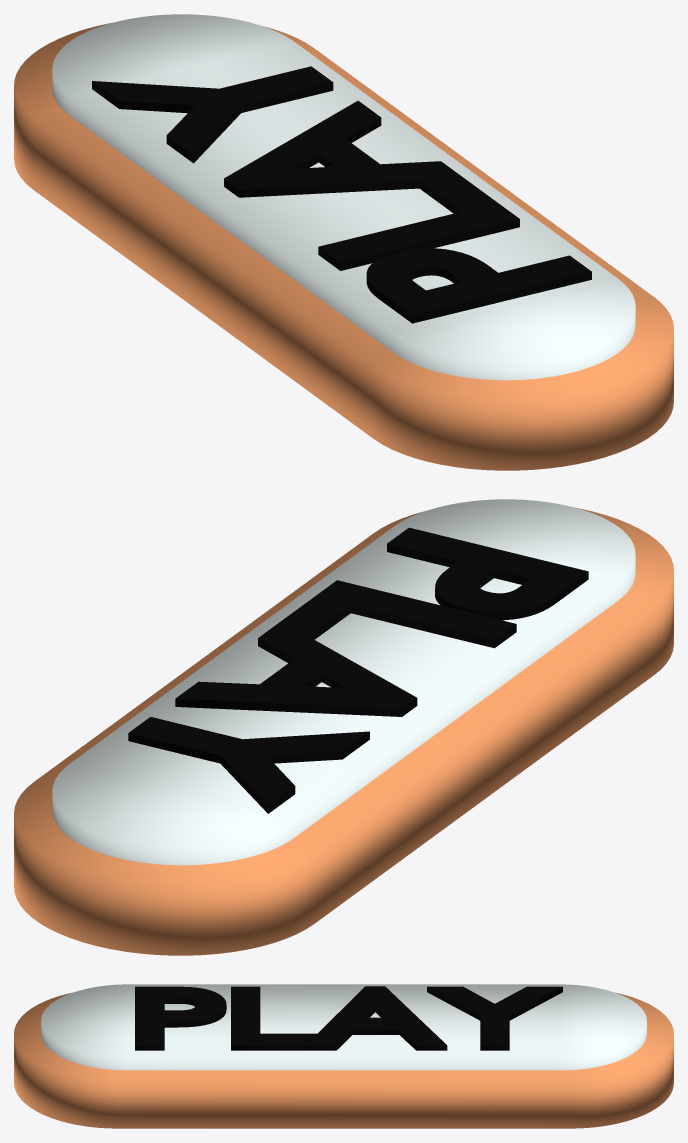
Rendered from play.fbx.
3 renders of one model, top to bottom at view 1: azimuth 30°, elevation 25°; view 2: azimuth 150°, elevation 25°; view 3: azimuth 270°, elevation 25°, orthographic. The views are drawn at different scales.
Visible parts, largest first — view 1: obj_0, obj_0.001, t; view 2: obj_0, obj_0.001, t; view 3: obj_0, obj_0.001, t.
Boxes of the visible parts, x1,y1,x2,y2 form: obj_0: (14,22,673,470); obj_0.001: (52,14,635,380); t: (92,66,591,323); obj_0: (14,507,673,955); obj_0.001: (52,499,635,865); t: (128,527,588,813); obj_0: (14,993,673,1128); obj_0.001: (41,984,646,1070); t: (135,986,562,1050).
Size of the model in its own units: 200 by 68.74 by 610.
